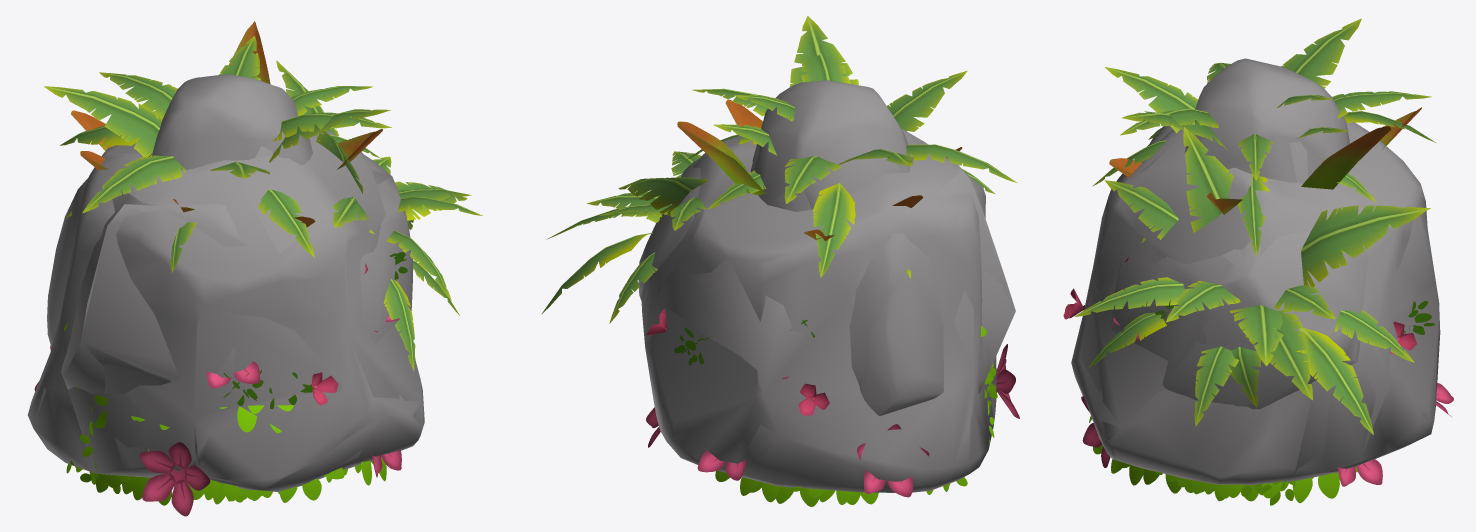
File: keys.glb
3 renders of one model, left to right at view 1: azimuth 30°, elevation 25°; view 2: azimuth 150°, elevation 25°; view 3: azimuth 270°, elevation 25°, orthographic. The views are drawn at different scales.
Parts seen in each view (by area): view 1: Environment_Rock_1 (×2), Environment_Rock_3 (×2), Environment_Rock_2, PalmTree_1 (×2), Bush_Flowers (×2), PalmTree_3 (×2), PalmTree_4, Plant_1_Big (×2), PalmTree_2 (×2), Bush_Common_Flowers, Bush_Large; view 2: Environment_Rock_1 (×2), Environment_Rock_3 (×2), Environment_Rock_2 (×2), PalmTree_1 (×2), PalmTree_3 (×2), Bush_Flowers (×2), PalmTree_4 (×2), PalmTree_2 (×2), Plant_1_Big, Bush_Common_Flowers; view 3: Environment_Rock_1 (×2), Environment_Rock_3 (×2), PalmTree_4 (×2), Environment_Rock_2 (×2), PalmTree_2 (×2), PalmTree_1 (×2), PalmTree_3 (×2), Bush_Flowers (×2), Plant_1_Big, Bush_Common_Flowers, Bush_Large.
Boxes of the visible parts, <box> form: Environment_Rock_1 (×2): <box>28,130,424,491</box>; Environment_Rock_3 (×2): <box>47,154,412,394</box>; Environment_Rock_2: <box>149,74,312,169</box>; PalmTree_1 (×2): <box>60,36,391,272</box>; Bush_Flowers (×2): <box>34,315,401,516</box>; PalmTree_3 (×2): <box>44,52,390,178</box>; PalmTree_4: <box>333,181,482,370</box>; Plant_1_Big (×2): <box>71,21,382,227</box>; PalmTree_2 (×2): <box>276,60,471,214</box>; Bush_Common_Flowers: <box>223,252,407,408</box>; Bush_Large: <box>67,325,131,493</box>; Environment_Rock_1 (×2): <box>641,128,996,492</box>; Environment_Rock_3 (×2): <box>638,156,1015,415</box>; Environment_Rock_2 (×2): <box>750,80,910,211</box>; PalmTree_1 (×2): <box>687,53,1016,278</box>; PalmTree_3 (×2): <box>713,16,967,166</box>; Bush_Flowers (×2): <box>646,344,1019,506</box>; PalmTree_4 (×2): <box>542,151,706,323</box>; PalmTree_2 (×2): <box>587,177,708,222</box>; Plant_1_Big: <box>677,99,920,240</box>; Bush_Common_Flowers: <box>646,308,829,415</box>; Environment_Rock_1 (×2): <box>1071,120,1440,484</box>; Environment_Rock_3 (×2): <box>1110,122,1368,409</box>; PalmTree_4 (×2): <box>1074,180,1430,434</box>; Environment_Rock_2 (×2): <box>1185,58,1349,183</box>; PalmTree_2 (×2): <box>1183,127,1427,407</box>; PalmTree_1 (×2): <box>1092,62,1435,255</box>; PalmTree_3 (×2): <box>1105,18,1361,150</box>; Bush_Flowers (×2): <box>1081,318,1453,502</box>; Plant_1_Big: <box>1109,107,1421,214</box>; Bush_Common_Flowers: <box>1063,256,1434,354</box>; Bush_Large: <box>1226,477,1312,505</box>.
Size of the model in its own units: 1.35 by 1.12 by 1.04.
Materials: 8 (8 with a texture image).
